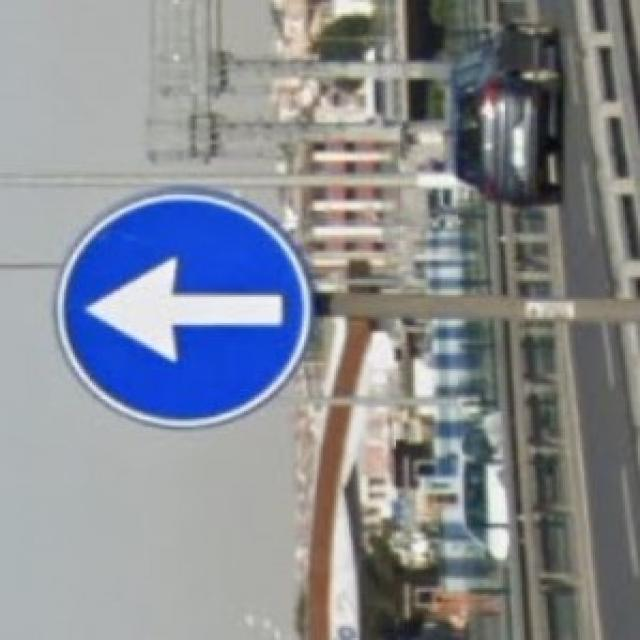Turn Left: (56, 183, 313, 426)
